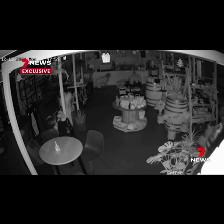person: (94, 74, 110, 88)
